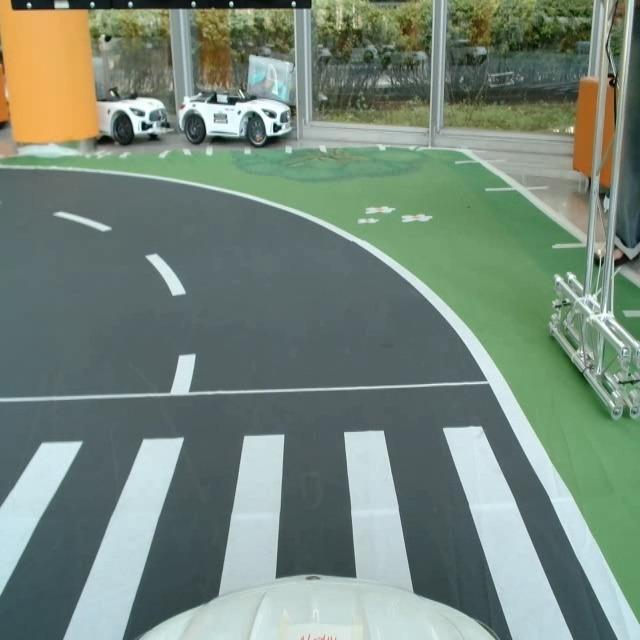traffic-light: (6, 0, 312, 15)
